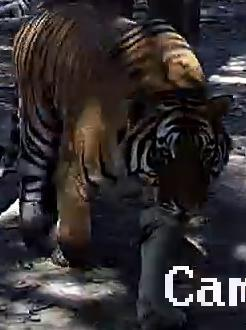tiger: (13, 0, 229, 321)
